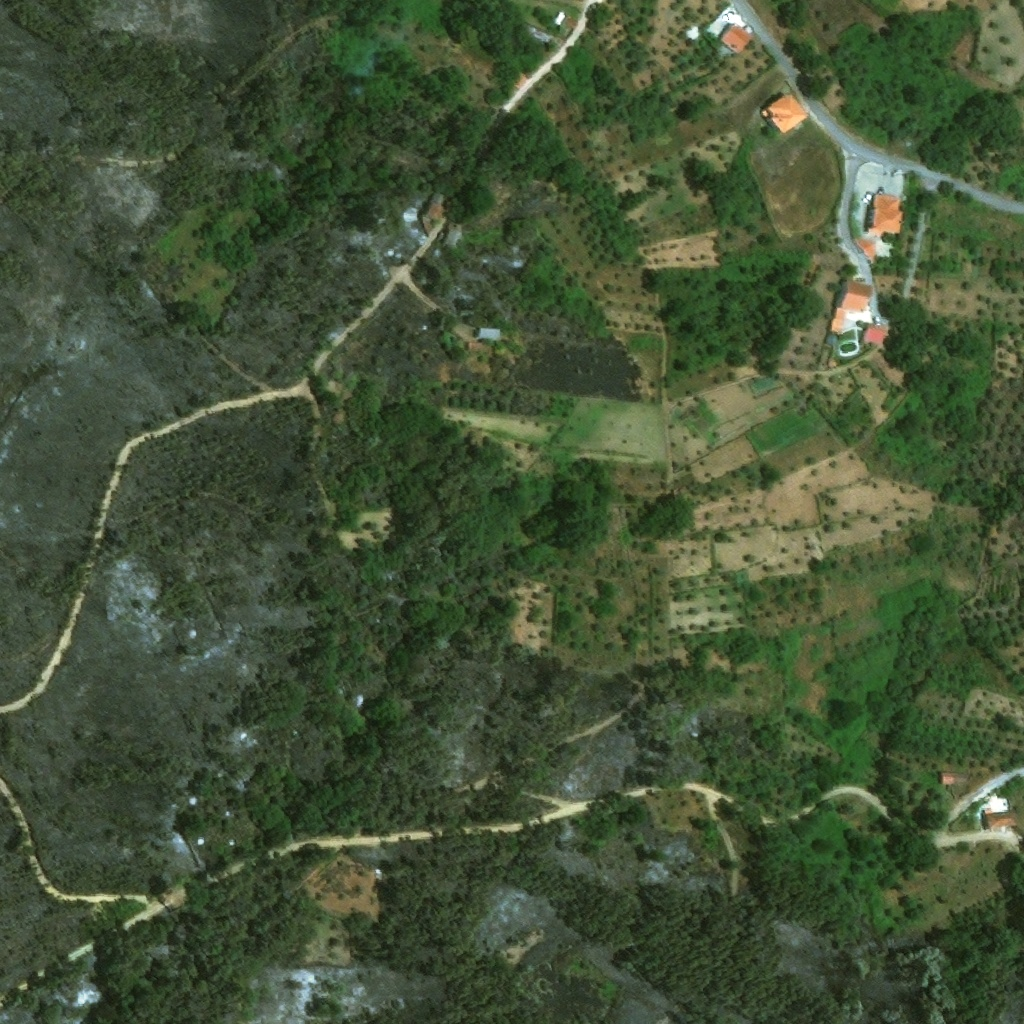0 no-damage: (762, 91, 810, 135), (519, 23, 562, 51), (873, 195, 904, 233), (719, 20, 753, 54), (840, 280, 871, 312), (985, 811, 1017, 831), (830, 306, 849, 333), (422, 201, 446, 222), (855, 241, 877, 263), (864, 324, 886, 346), (430, 188, 450, 208), (509, 70, 527, 91), (942, 772, 968, 784), (479, 327, 501, 340), (470, 343, 494, 354)
1 minor-damage: (441, 226, 464, 250)
